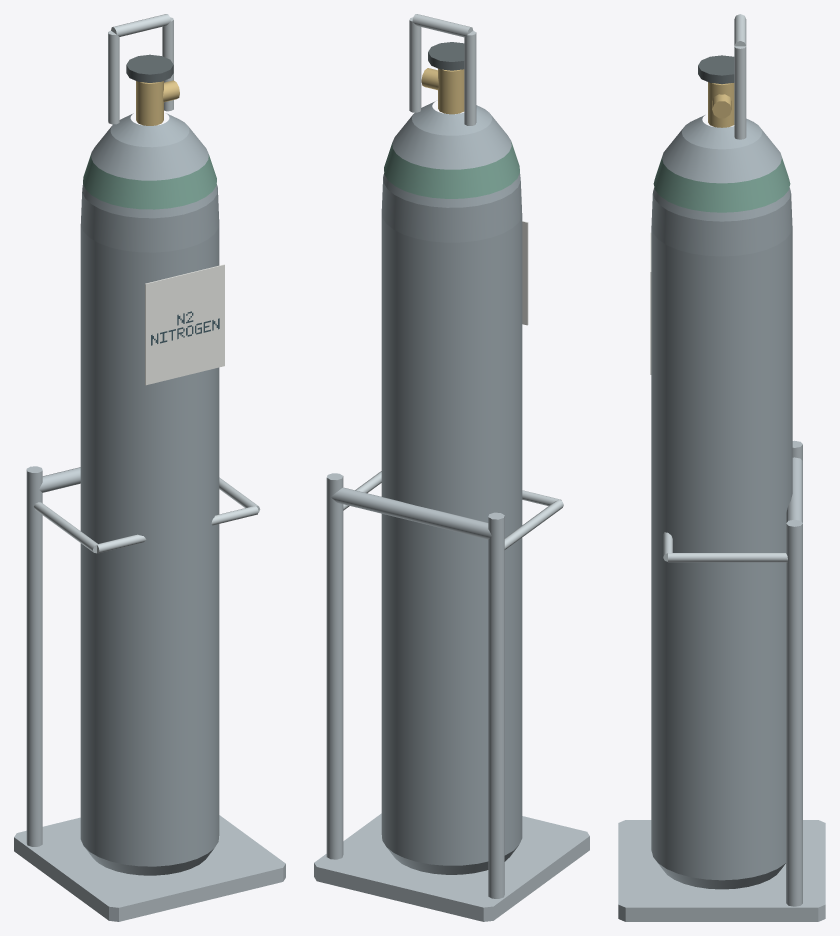
The model's file is nitrogenTank.glb.
3 renders of one model, left to right at view 1: azimuth 30°, elevation 25°; view 2: azimuth 150°, elevation 25°; view 3: azimuth 270°, elevation 25°, orthographic.
Visible parts, largest first — view 1: Kvävetank; view 2: Kvävetank; view 3: Kvävetank.
Boxes of the visible parts, x1=… form: Kvävetank: x1=14, y1=14, x2=285, y2=921; Kvävetank: x1=314, y1=14, x2=589, y2=921; Kvävetank: x1=618, y1=14, x2=825, y2=921.
Bounding box in the file's own units: 0.34 × 1.54 × 0.34.
